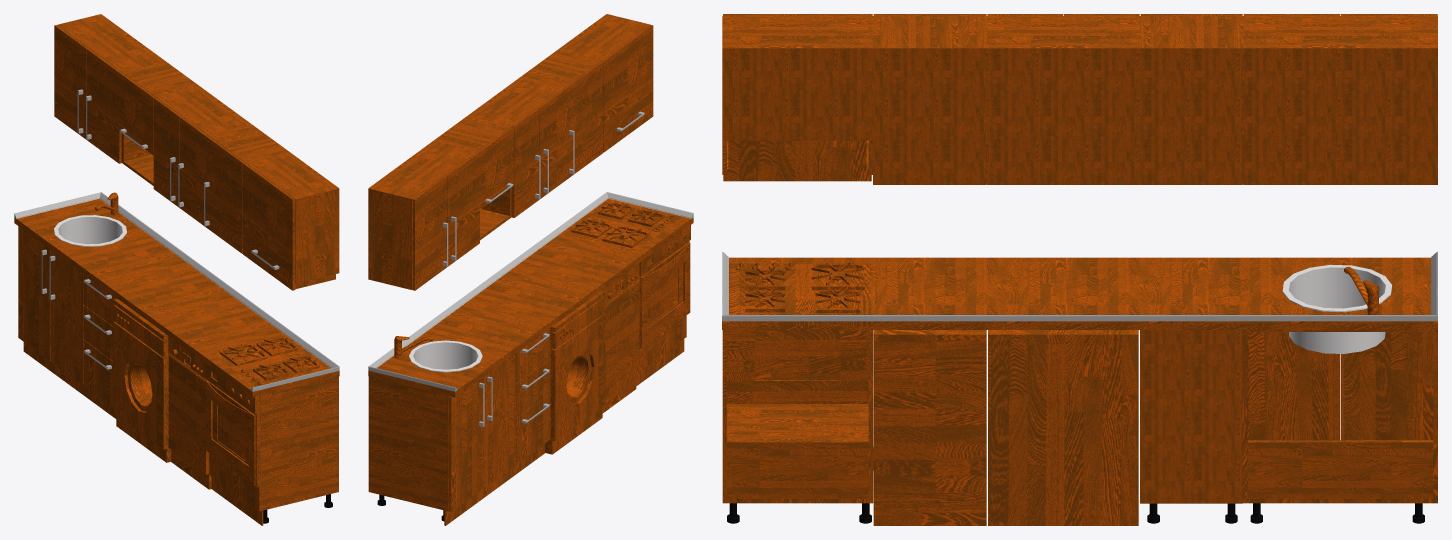
The picture shows the model from 3 angles, left to right: view 1: azimuth 30°, elevation 25°; view 2: azimuth 150°, elevation 25°; view 3: azimuth 270°, elevation 25°; orthographic projection. The views are drawn at different scales.
Visible parts, largest first — view 1: material-EGGER (×19), material-W (×9), material-Metal (×6), material-Paint (×4), material-Mtl_Aluminium (×3), material-Mtl_Chrome (×2), material-Glass, material-LS_GARNITURA; view 2: material-EGGER (×19), material-W (×8), material-Metal (×6), material-Paint (×4), material-Mtl_Aluminium (×3), material-Mtl_Chrome (×2), material-Glass, material-LS_GARNITURA; view 3: material-W (×19), material-EGGER (×4), material-Paint (×5), material-Metal (×3), material-Mtl_Chrome (×2), material-Mtl_Aluminium, material-Glass, material-LS_GARNITURA.
Part boxes in pixels (bbox=[...]): material-EGGER (×19): bbox=[14, 25, 339, 525]; material-W (×9): bbox=[57, 14, 339, 511]; material-Metal (×6): bbox=[168, 245, 335, 487]; material-Paint (×4): bbox=[113, 298, 171, 462]; material-Mtl_Aluminium (×3): bbox=[14, 192, 339, 391]; material-Mtl_Chrome (×2): bbox=[54, 215, 126, 246]; material-Glass: bbox=[218, 405, 245, 460]; material-LS_GARNITURA: bbox=[99, 192, 339, 368]; material-EGGER (×19): bbox=[368, 25, 693, 525]; material-W (×8): bbox=[368, 14, 650, 508]; material-Metal (×6): bbox=[564, 110, 690, 349]; material-Paint (×4): bbox=[545, 290, 605, 454]; material-Mtl_Aluminium (×3): bbox=[368, 192, 693, 391]; material-Mtl_Chrome (×2): bbox=[409, 340, 482, 372]; material-Glass: bbox=[650, 268, 677, 322]; material-LS_GARNITURA: bbox=[369, 192, 607, 368]; material-W (×19): bbox=[722, 16, 1437, 503]; material-EGGER (×4): bbox=[722, 257, 1437, 525]; material-Paint (×5): bbox=[873, 330, 1138, 525]; material-Metal (×3): bbox=[723, 140, 874, 403]; material-Mtl_Chrome (×2): bbox=[1282, 264, 1392, 353]; material-Mtl_Aluminium: bbox=[722, 315, 1437, 321]; material-Glass: bbox=[755, 330, 840, 380]; material-LS_GARNITURA: bbox=[722, 315, 1437, 316].
Bounding box in the file's own units: 0.621 × 2.1 × 2.85.
6 materials, 1 textured.
